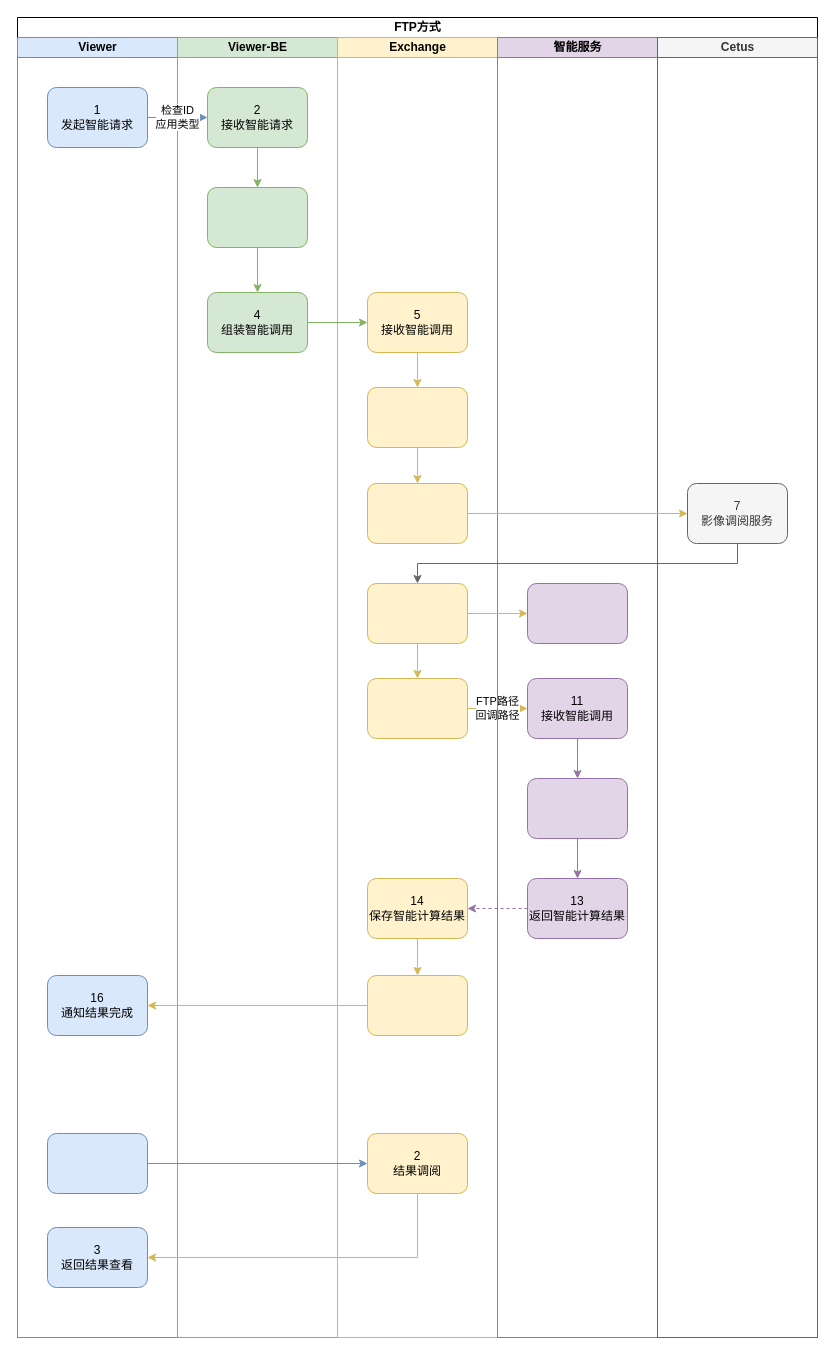
Image size: 835x1355. Some labels were removed from this diagram. Here are the shapes that lost their labels. From the top down, the centre of each, then its label:
(257,217): 3 查找智能应用 （从应用注册）
(417,417): 6 记录调用方 生成异步请求
(417,513): 6 拉取影像
(417,613): 8 影像推送 FTP
(577,613): 9 接收影像
(417,708): 10 发送智能调用
(577,808): 12 智能计算
(417,1005): 15 查找并通知调用方
(97,1163): 1 请求结果查看
